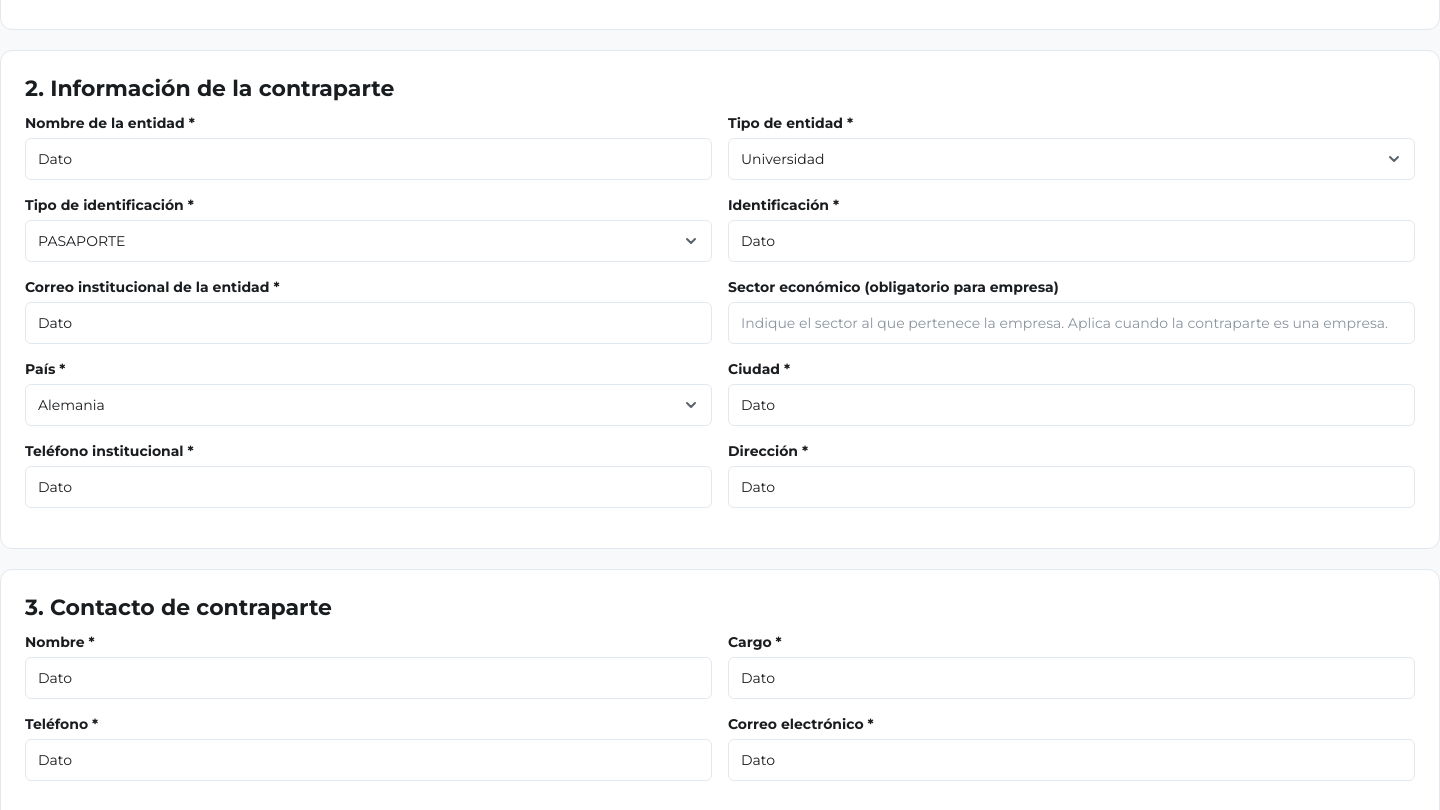
Scenario: país persistido con catálogo asíncrono › permite cambiar el país y no revierte la elección al actualizar la solicitud
(page scrolled)
Select "Colombia" in the dropdown labelled "País *" at (368, 405), box [25,384,712,426]
(page scrolled)
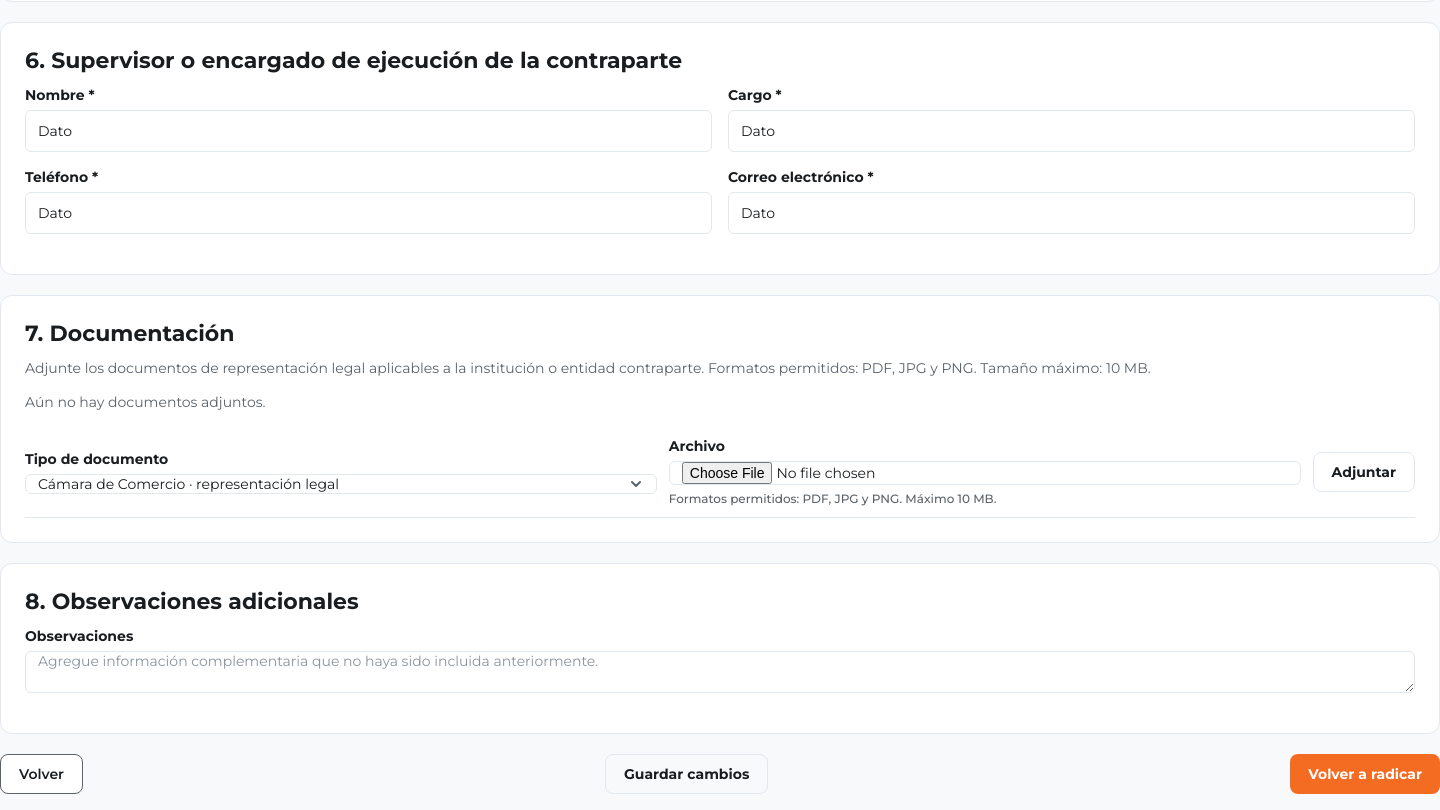
Type "Cambio legítimo" into the text box labelled "Observaciones".
click(720, 672); type("Cambio legítimo")  # box [25,651,1415,693]
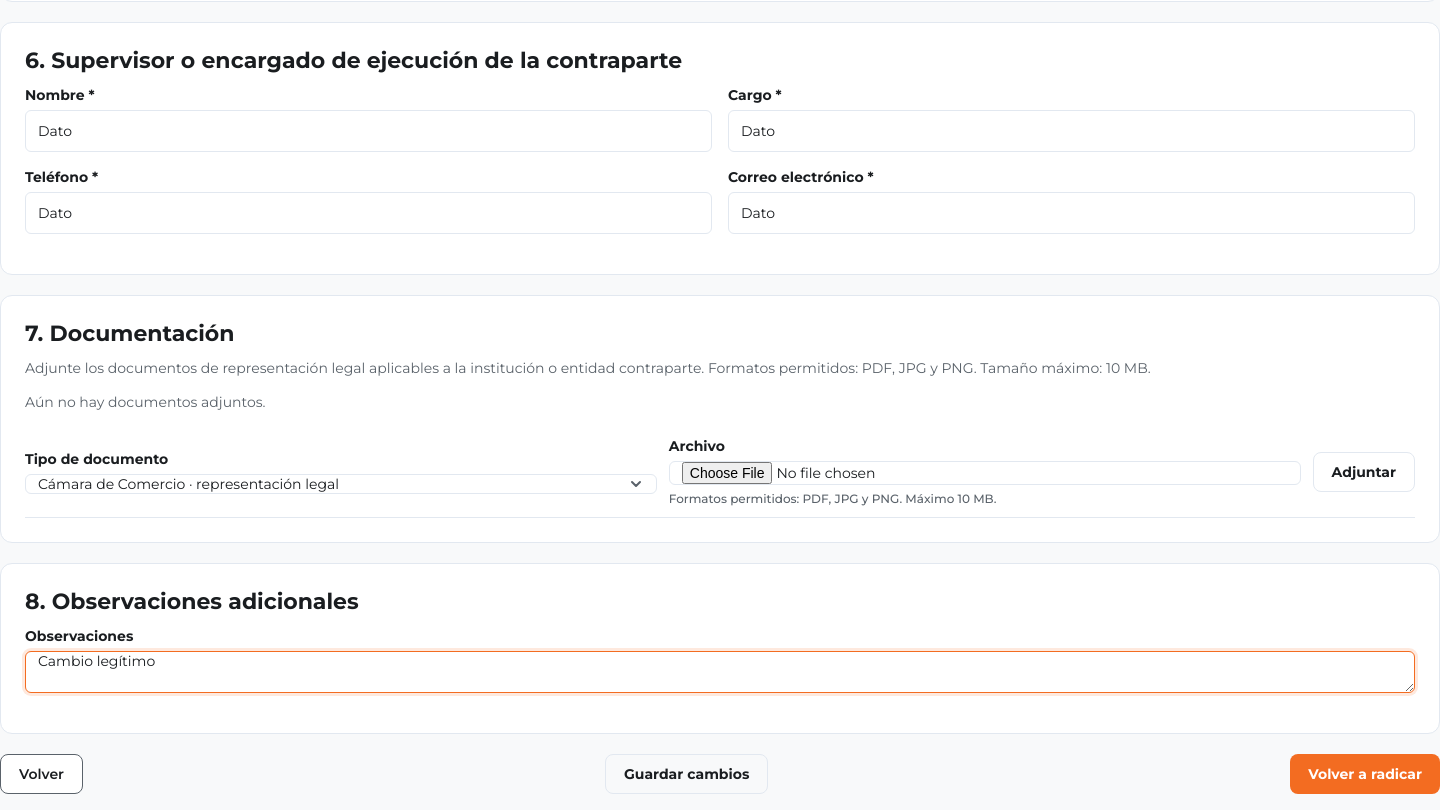
Click the button "Guardar cambios".
click(687, 774)  # box [605,754,768,794]
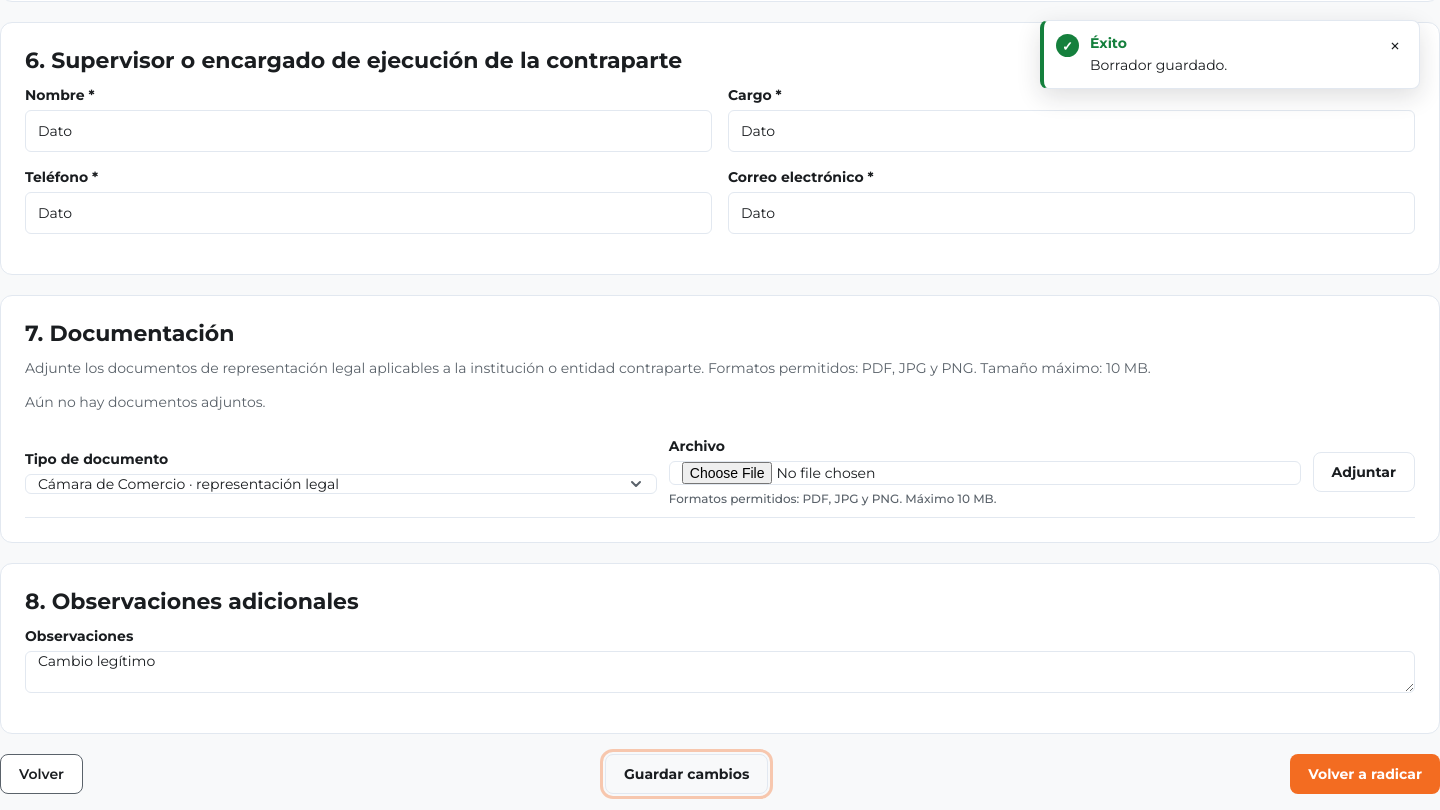
Result: the text "Borrador guardado." is shown at [1090,56,1227,74]
